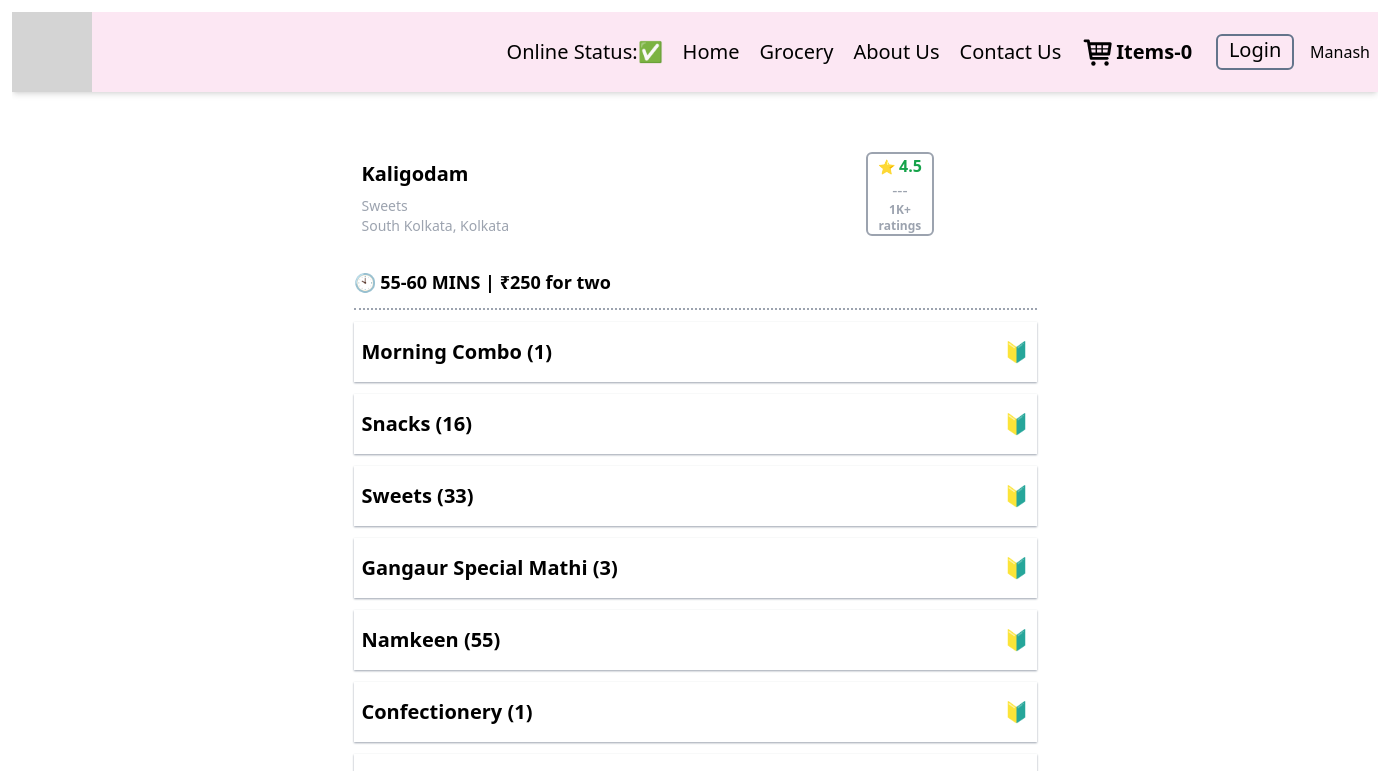
Test: Should Fetch the Add+ button from the Items List.. and Click it to Display the Cart..
Click the text "Snacks (16)" at (417, 424), box [362,410,472,438]
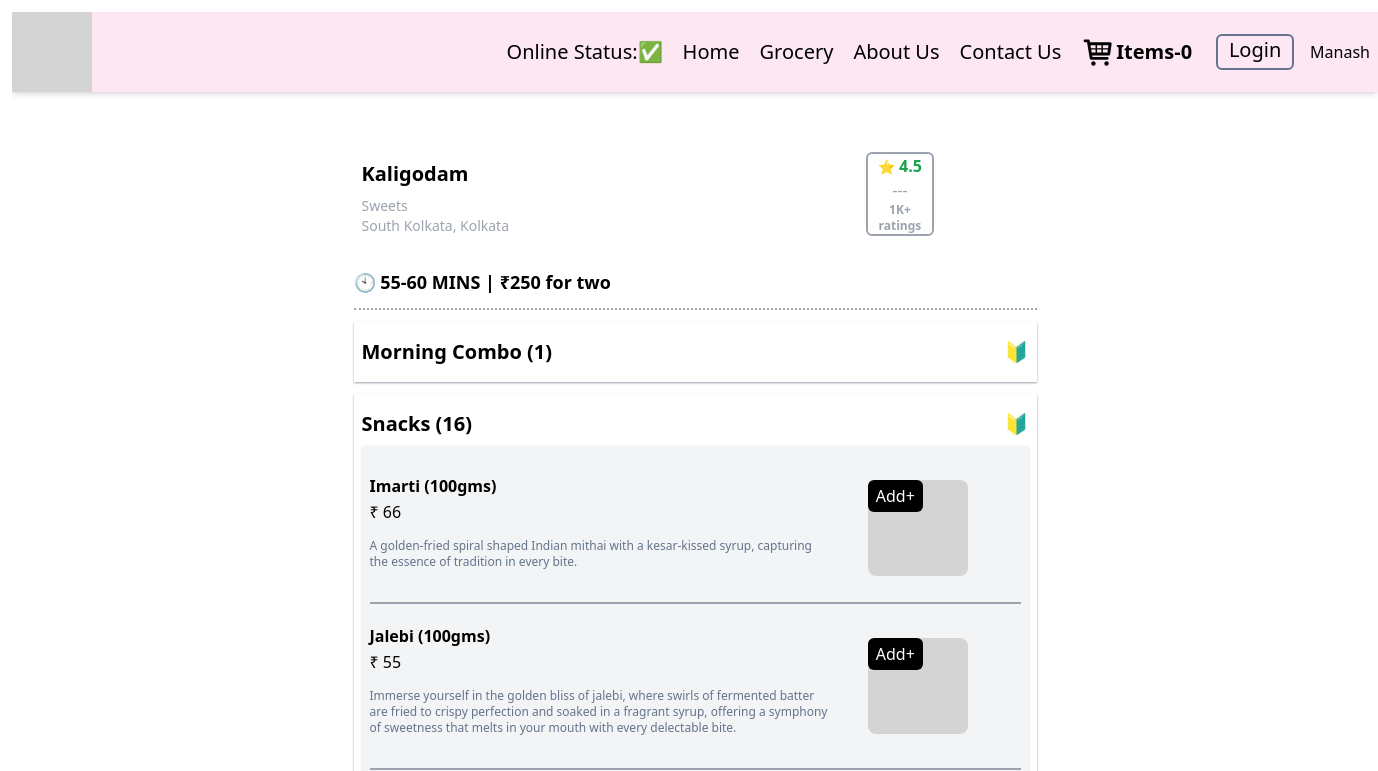
Click the button "Add+" in the row of "Imarti (100gms)" at (895, 496), box [868,480,923,512]
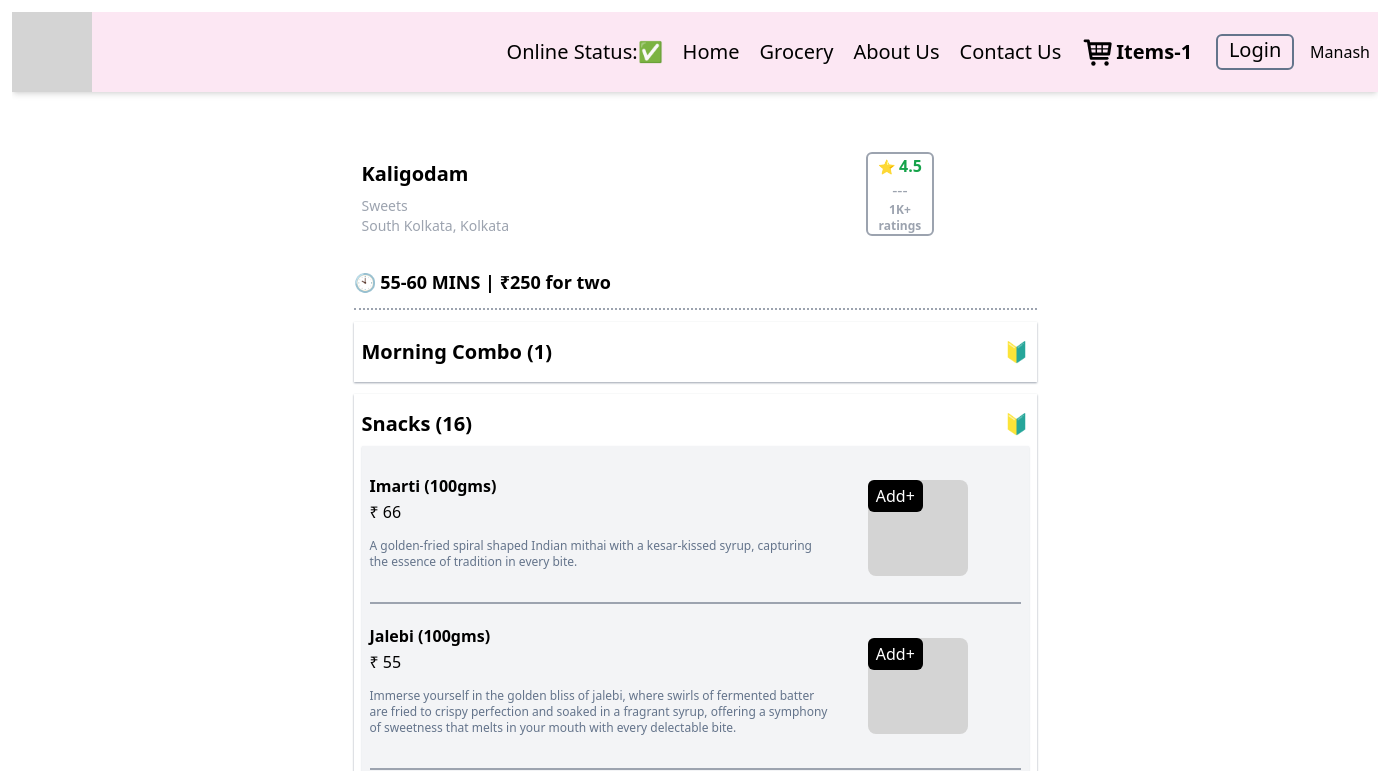
Expected: the text "Items-1" is shown, [1116,38,1192,66]
